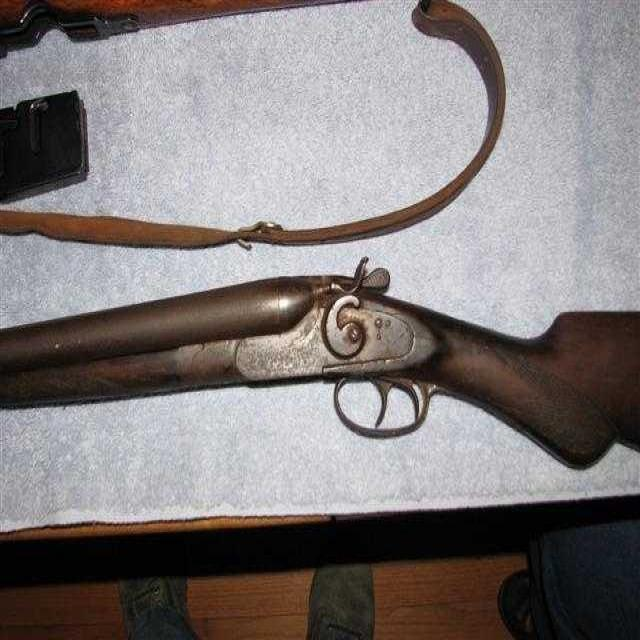weapon: (0, 202, 638, 486)
